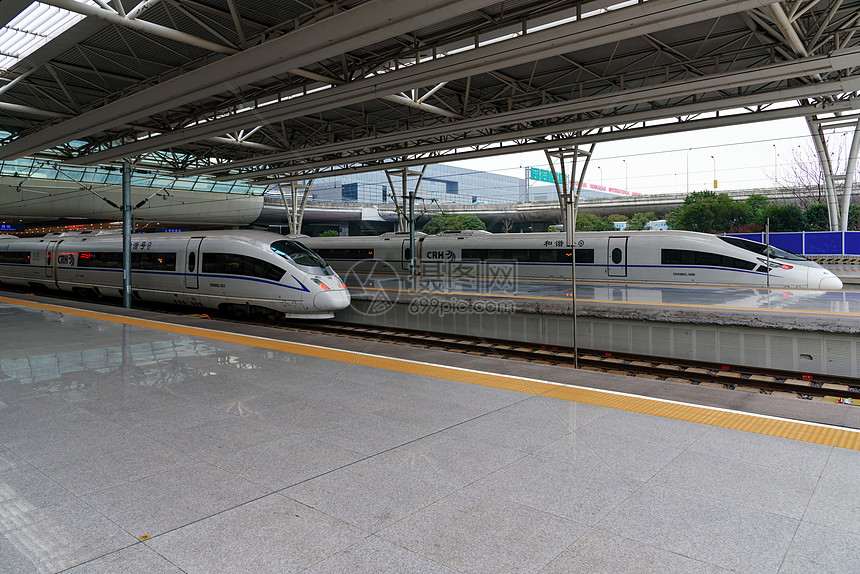hsrw: (2, 224, 356, 328), (288, 230, 848, 294)
